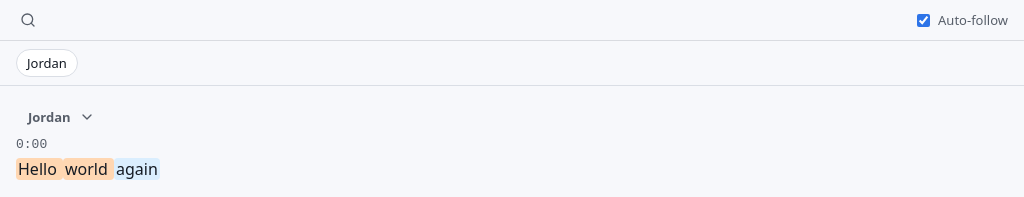
TranscriptViewer › shows a pastel-orange background for already-highlighted tokens, and offers to remove it
Press the mouse on the text "Hello" at (40, 169), box [16,158,63,180]
Hover over the text "world" at (88, 169), box [63,158,114,180]
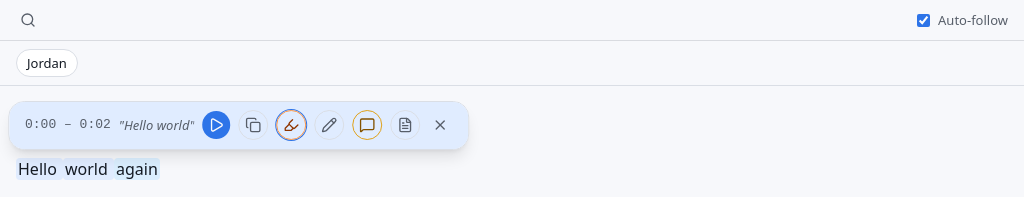
Expected: the button named "Remove highlight" is shown, [277,110,307,140]
